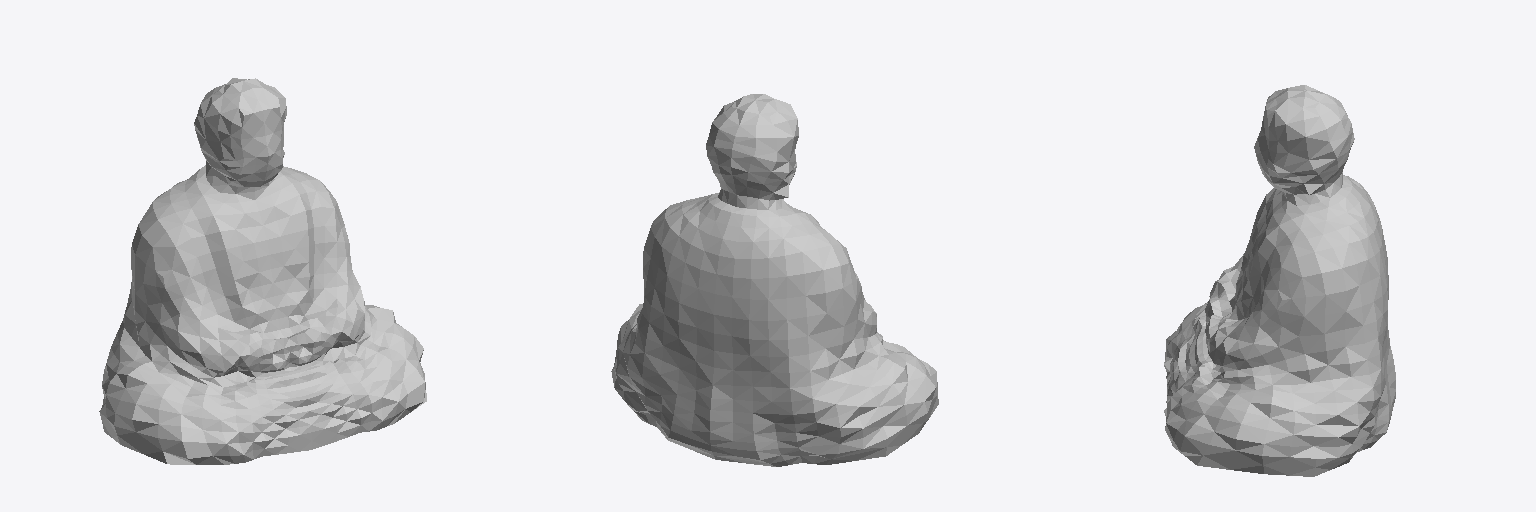
The model's file is Low Rez Bhudda.obj.
3 views of the same model, side by side, from view 1: azimuth 30°, elevation 25°; view 2: azimuth 150°, elevation 25°; view 3: azimuth 270°, elevation 25° (orthographic).
Visible parts, largest first — view 1: polySurface2; view 2: polySurface2; view 3: polySurface2.
Boxes of the visible parts, x1,y1,x2,y2 form: polySurface2: [99, 78, 426, 464]; polySurface2: [611, 94, 938, 466]; polySurface2: [1164, 85, 1395, 476].
Size of the model in its own units: 63.48 by 66.56 by 42.44.